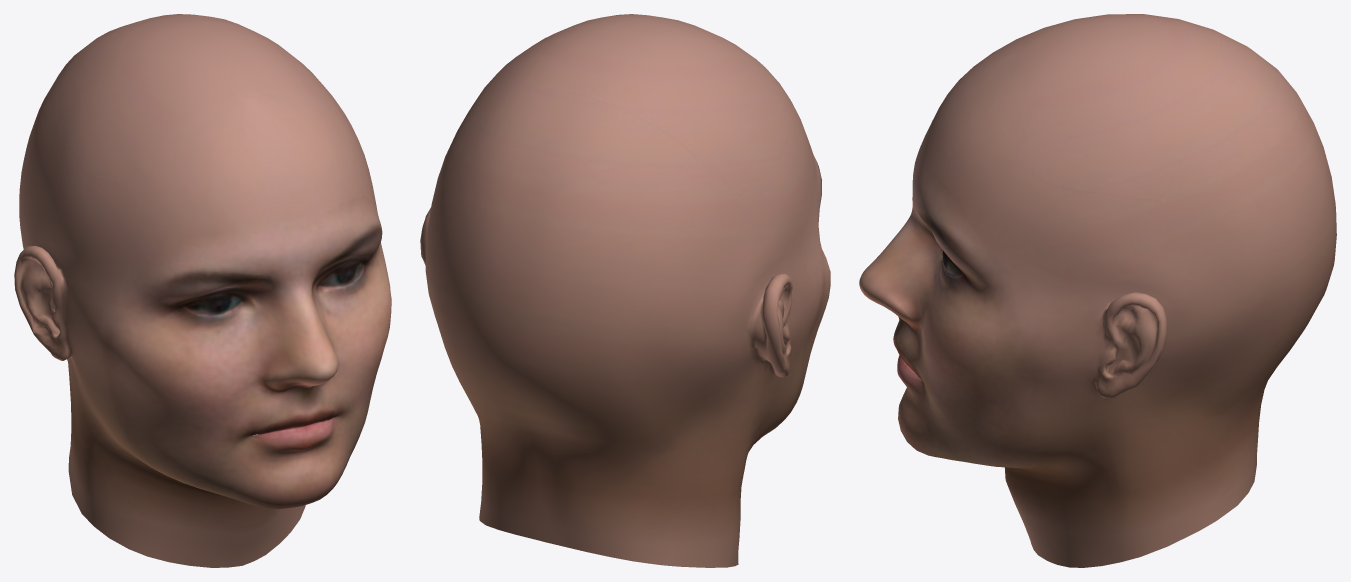
3 renders of one model, left to right at view 1: azimuth 30°, elevation 25°; view 2: azimuth 150°, elevation 25°; view 3: azimuth 270°, elevation 25°, orthographic. The views are drawn at different scales.
Parts seen in each view (by area): view 1: HeadHires; view 2: HeadHires; view 3: HeadHires.
Boxes of the visible parts, <box> form: HeadHires: <box>14,14,391,567</box>; HeadHires: <box>420,14,830,567</box>; HeadHires: <box>859,14,1336,567</box>.
Size of the model in its own units: 196 by 283 by 238.
Materials: 1 (1 with a texture image).
